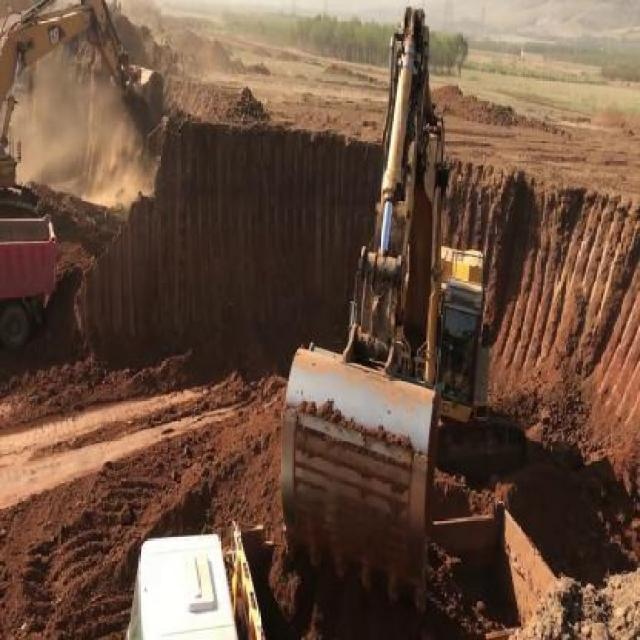Dump Truck: (120, 491, 565, 638), (0, 216, 55, 351)
Excavator: (257, 10, 492, 575), (0, 0, 163, 217)
